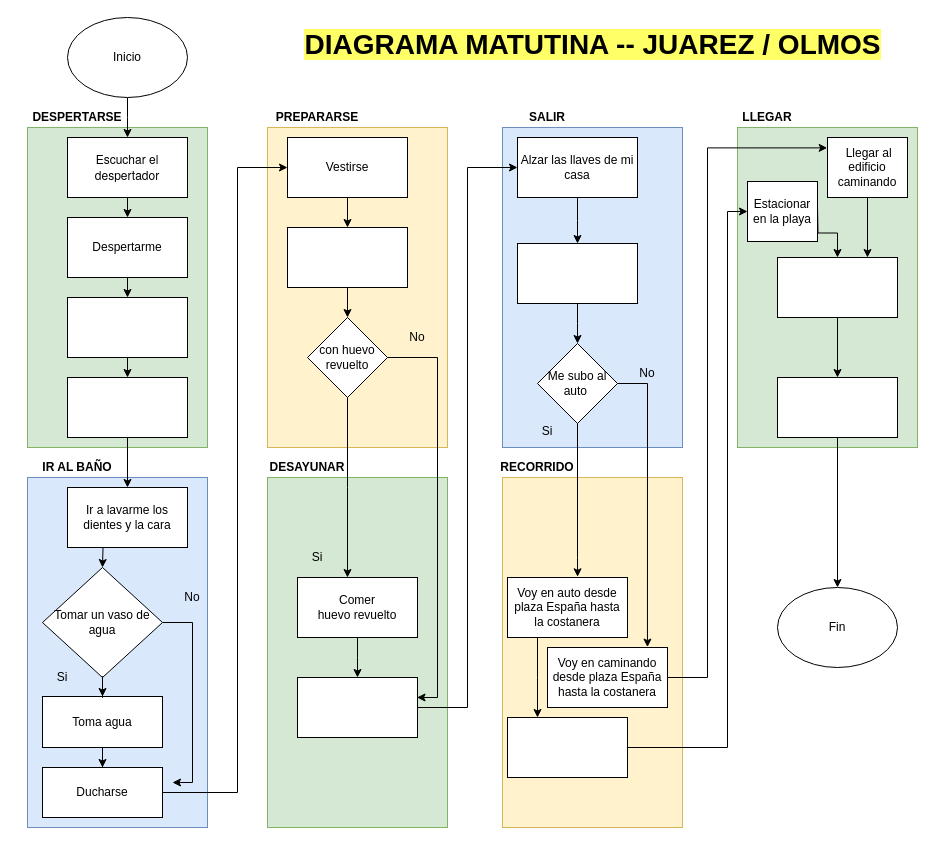
Image size: 935x845. Some labels were removed from this diagram. The centre of each missing label's shape, as x and y in pixels:
"Apagar la alarma del despertador" belongs at (127,327).
"Entrar en mi puesto de trabajo" belongs at (837,407).
"Levantarse de la cama" belongs at (127,407).
"Llegar al edificio en auto" belongs at (567,747).
"Marcar en el lector mi ingreso al puesto laboral" belongs at (837,287).
"Preparar desayuno de café" belongs at (347,257).
"Salir de mi casa" belongs at (577,273).
"Tomar el desayuno" belongs at (357,707).
